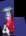potion: (0, 17, 14, 36), (0, 0, 14, 17)
